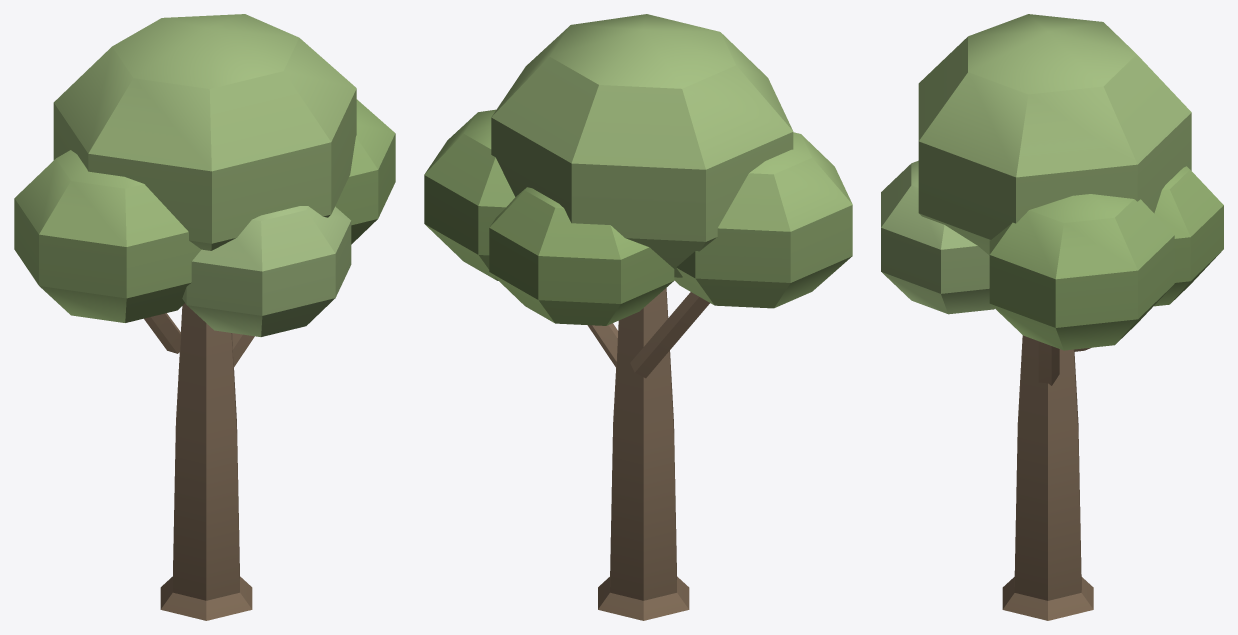
The model's file is tree_oak.glb.
3 views of the same model, side by side, from view 1: azimuth 30°, elevation 25°; view 2: azimuth 150°, elevation 25°; view 3: azimuth 270°, elevation 25° (orthographic).
Visible parts, largest first — view 1: tree_oak; view 2: tree_oak; view 3: tree_oak.
Boxes of the visible parts, x1,y1,x2,y2 form: tree_oak: [14, 14, 395, 620]; tree_oak: [424, 14, 852, 620]; tree_oak: [881, 14, 1223, 620].
Size of the model in its own units: 2.25 by 3.21 by 1.76.
